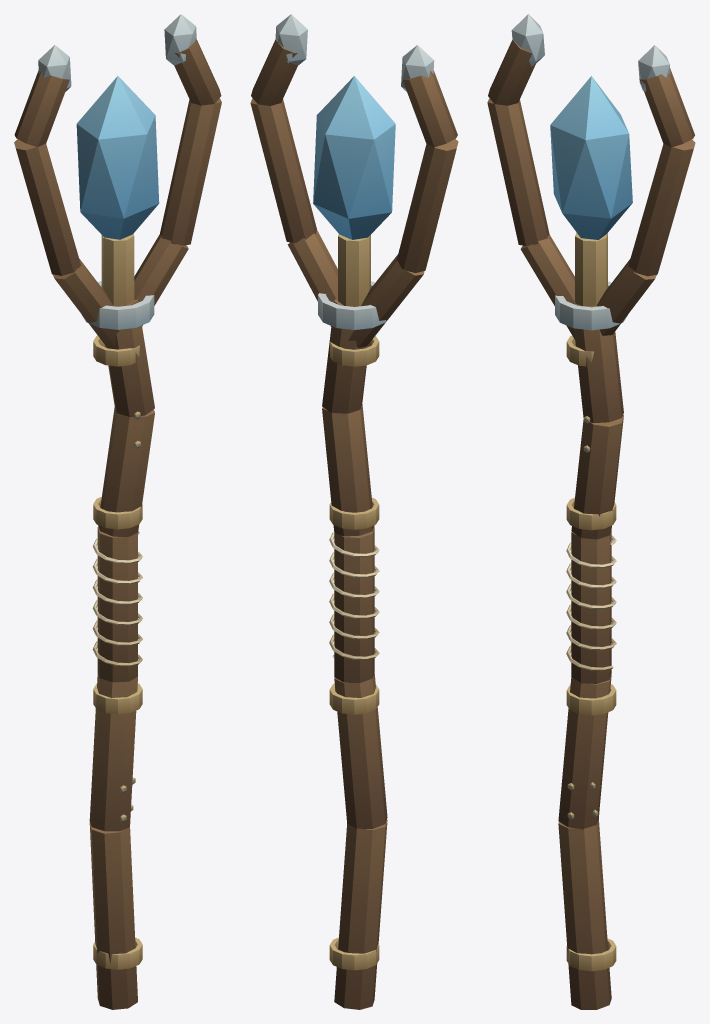
File: baston_raiz_celeste.glb
3 views of the same model, side by side, from view 1: azimuth 30°, elevation 25°; view 2: azimuth 150°, elevation 25°; view 3: azimuth 330°, elevation 25° (orthographic).
Visible parts, largest first — view 1: baston_raiz_celeste_finished; view 2: baston_raiz_celeste_finished; view 3: baston_raiz_celeste_finished.
Boxes of the visible parts, <box> form: baston_raiz_celeste_finished: <box>14,14,221,1009</box>; baston_raiz_celeste_finished: <box>250,14,458,1009</box>; baston_raiz_celeste_finished: <box>487,14,695,1009</box>.
Bounding box in the file's own units: 0.4857 × 2.21 × 0.15.
Materials: 2 (2 with a texture image).
